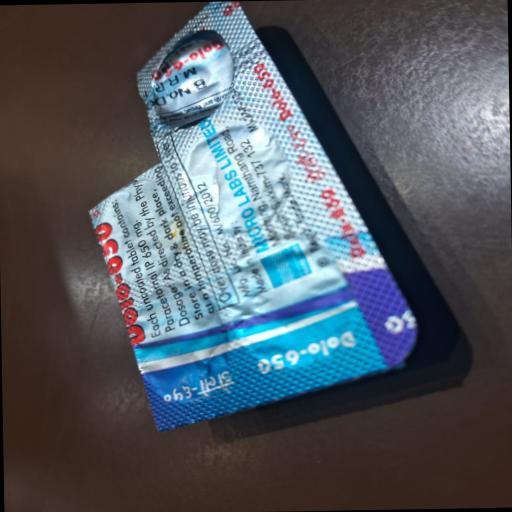dolo-650: (91, 214, 149, 352), (244, 321, 364, 379), (137, 34, 234, 84), (154, 361, 241, 414), (322, 182, 375, 264), (249, 51, 296, 124)
medicine: (83, 0, 424, 435)
